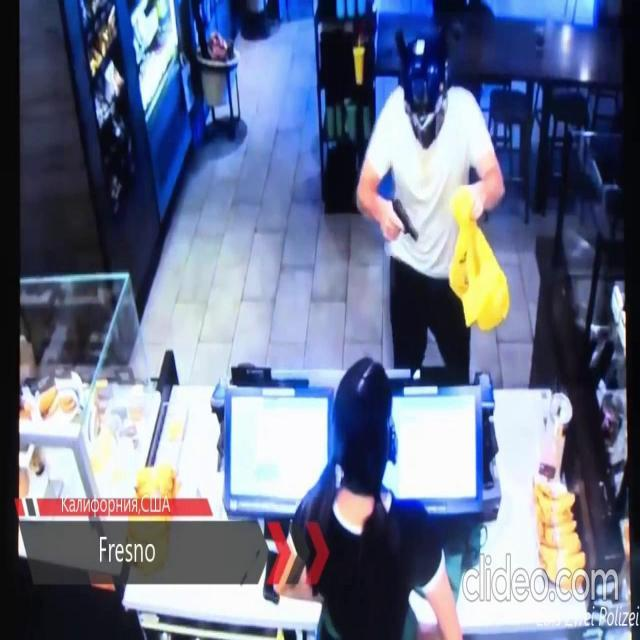pistol: (390, 192, 420, 243)
